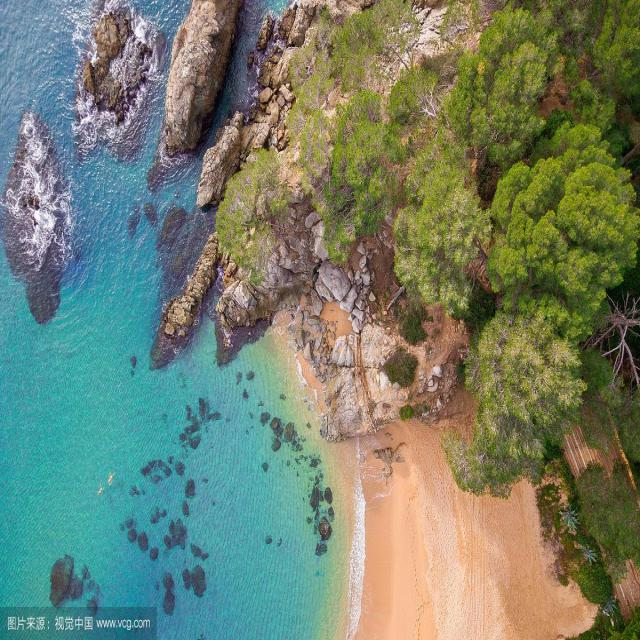reef: (62, 12, 276, 164)
